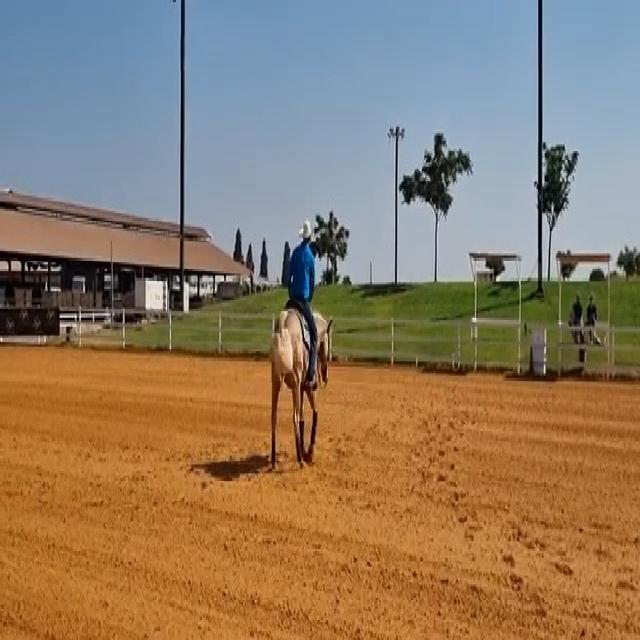horse: (267, 302, 334, 471)
